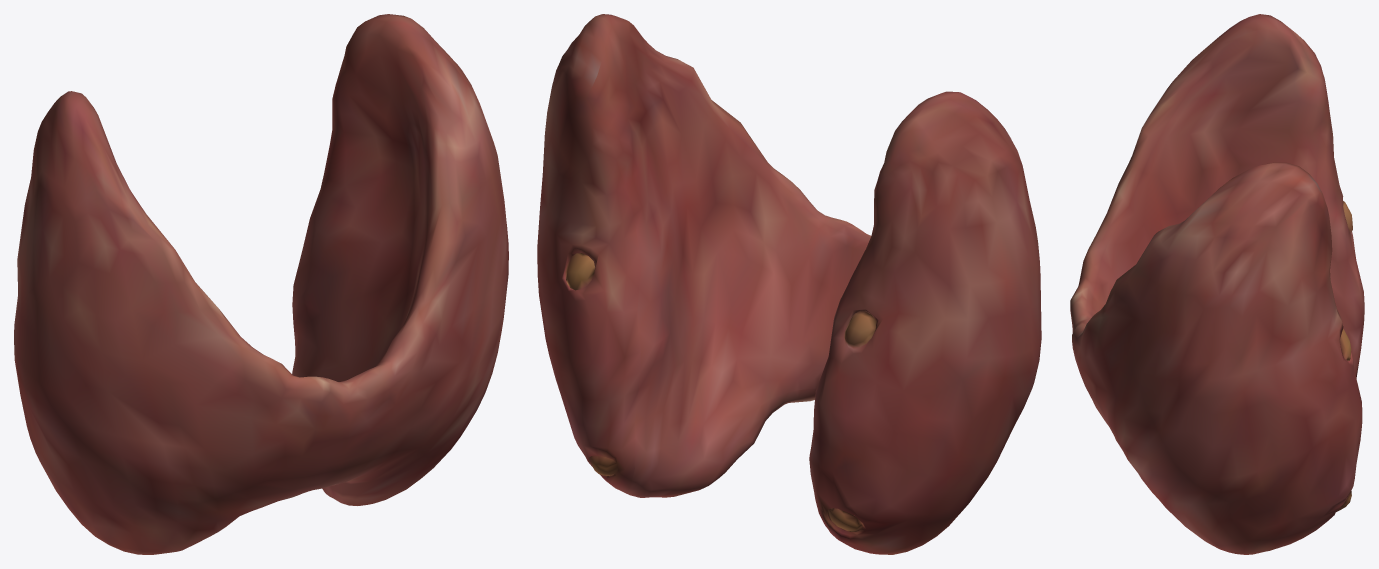
Rendered from thyroid_cancer.glb.
3 views of the same model, side by side, from view 1: azimuth 30°, elevation 25°; view 2: azimuth 150°, elevation 25°; view 3: azimuth 270°, elevation 25° (orthographic). The views are drawn at different scales.
Visible parts, largest first — view 1: Thyroid Gland [S01632]; view 2: Thyroid Gland [S01632]; view 3: Thyroid Gland [S01632].
Part boxes in pixels (bbox=[...]): Thyroid Gland [S01632]: bbox=[14, 14, 508, 554]; Thyroid Gland [S01632]: bbox=[537, 14, 1041, 554]; Thyroid Gland [S01632]: bbox=[1070, 14, 1364, 554].
Bounding box in the file's own units: 1.97 × 1.88 × 1.22.
